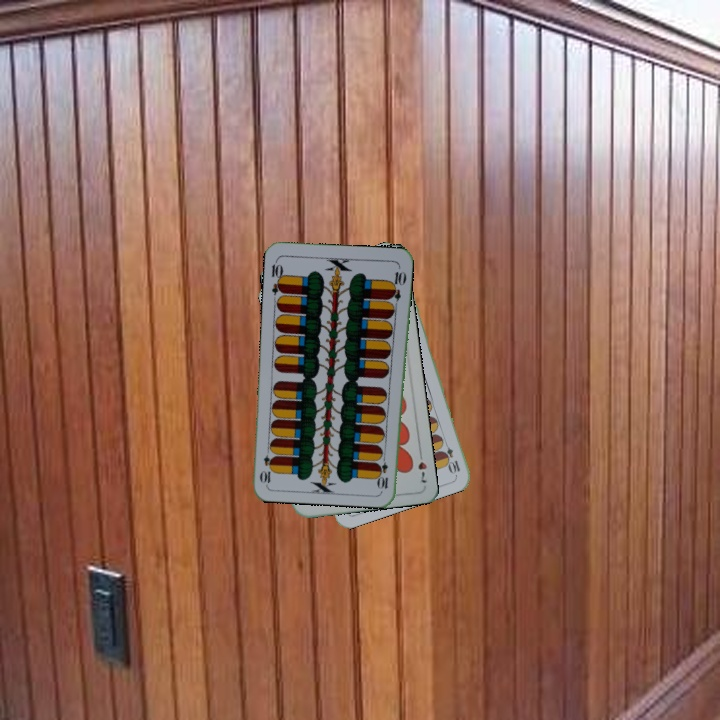E10: (439, 436, 463, 476), (267, 256, 287, 297), (376, 451, 391, 491)
H7: (414, 446, 430, 485)
